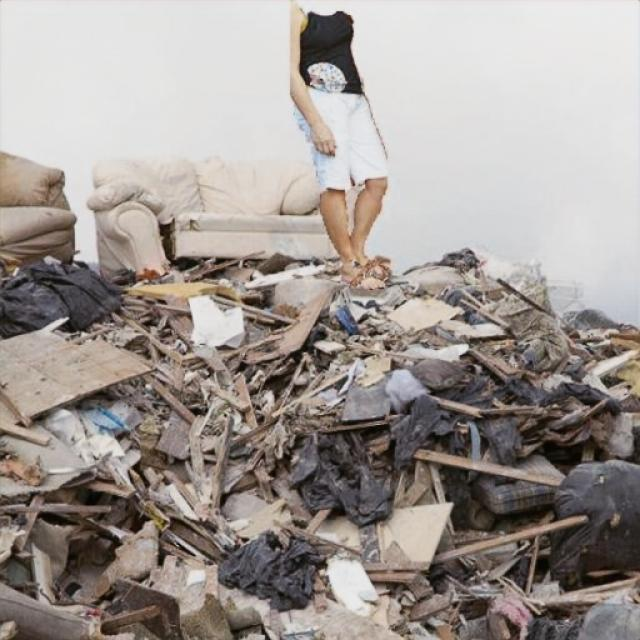Person in Rubble: (290, 0, 386, 289)
